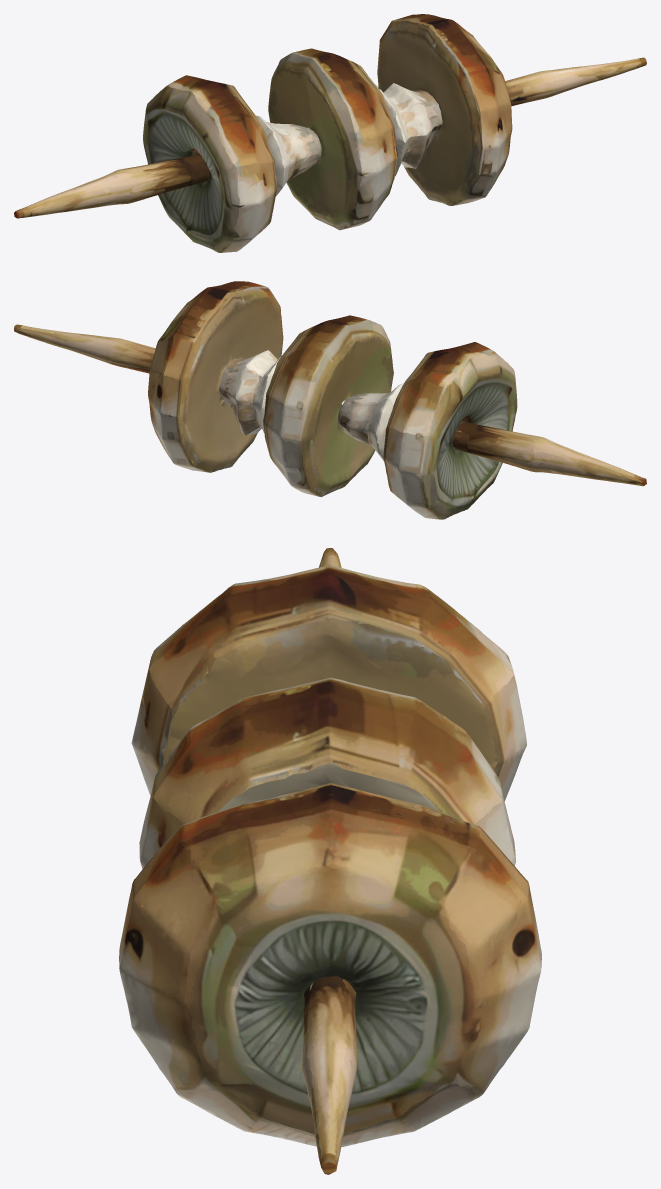
Rendered from food_mushroom_roasted.glb.
3 views of the same model, one above another, from view 1: azimuth 30°, elevation 25°; view 2: azimuth 150°, elevation 25°; view 3: azimuth 270°, elevation 25° (orthographic). The views are drawn at different scales.
Parts seen in each view (by area): view 1: food_mushroom_roasted; view 2: food_mushroom_roasted; view 3: food_mushroom_roasted.
Boxes of the visible parts, x1=… form: food_mushroom_roasted: x1=14, y1=14, x2=646, y2=252; food_mushroom_roasted: x1=14, y1=281, x2=646, y2=519; food_mushroom_roasted: x1=119, y1=548, x2=541, y2=1174.
Size of the model in its own units: 0.28 by 0.0752 by 0.0814.
Materials: 1 (1 with a texture image).
